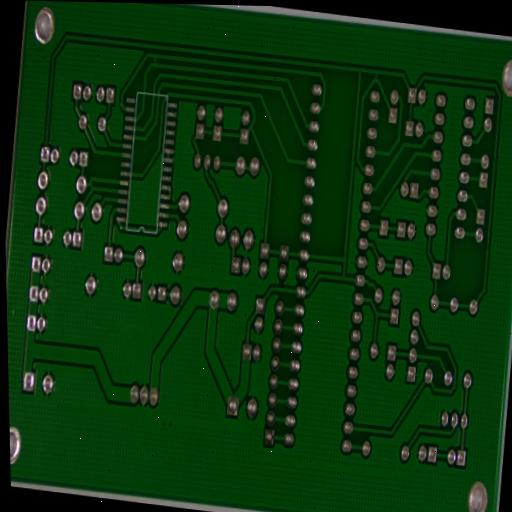short_circuit: (147, 50, 162, 74), (369, 65, 384, 89), (84, 176, 99, 199)
